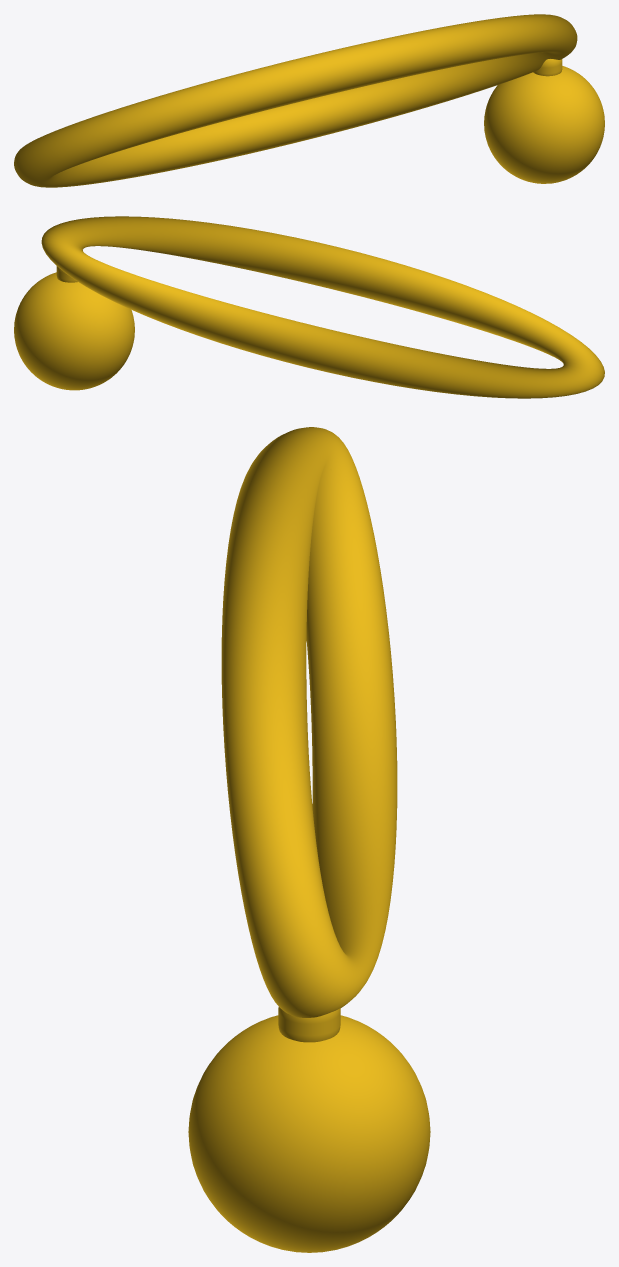
File: zcollar-allgld-tag-3d.glb
The picture shows the model from 3 angles, top to bottom: view 1: azimuth 30°, elevation 25°; view 2: azimuth 150°, elevation 25°; view 3: azimuth 270°, elevation 25°; orthographic projection. The views are drawn at different scales.
Parts seen in each view (by area): view 1: mesh_id38, mesh_id64, mesh_id72; view 2: mesh_id38, mesh_id64; view 3: mesh_id38, mesh_id64, mesh_id72.
Part boxes in pixels (x1,y1,x2,y2): mesh_id38: (14,14,577,187); mesh_id64: (484,66,604,183); mesh_id72: (533,59,562,76); mesh_id38: (41,216,604,398); mesh_id64: (14,272,134,390); mesh_id38: (221,427,397,1017); mesh_id64: (188,1015,430,1252); mesh_id72: (278,1007,340,1042).
Size of the model in its own units: 0.3325 by 0.1031 by 0.06.
Materials: 3 (3 with a texture image).
